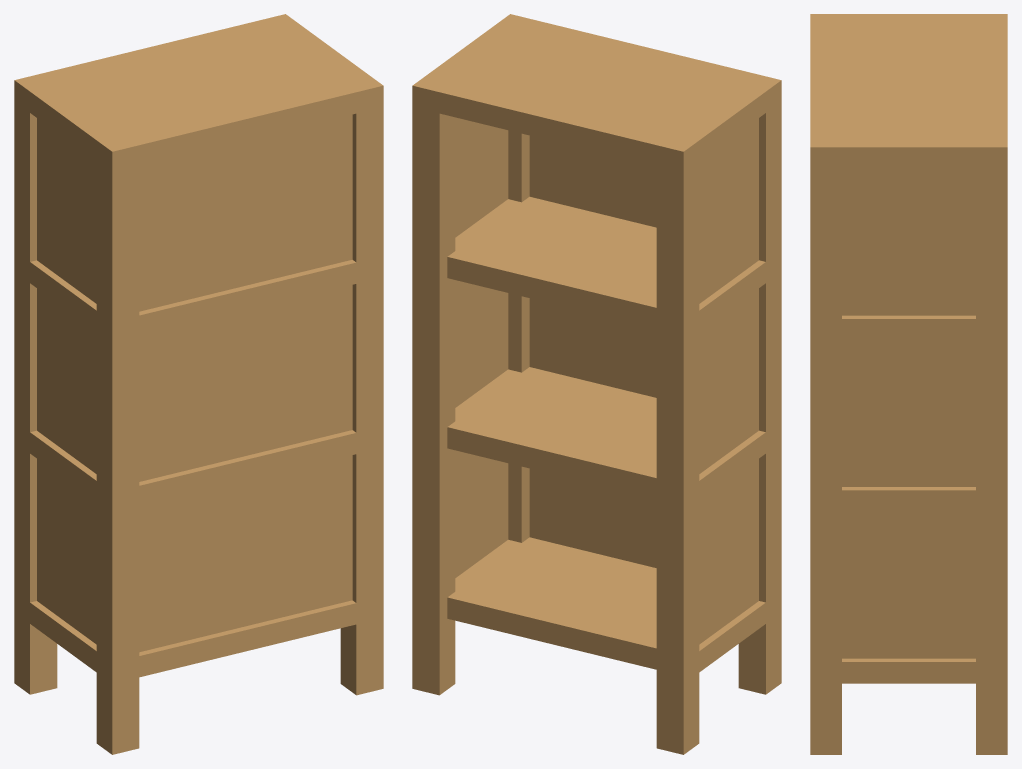
File: bookcaseClosed.glb
3 renders of one model, left to right at view 1: azimuth 30°, elevation 25°; view 2: azimuth 150°, elevation 25°; view 3: azimuth 270°, elevation 25°, orthographic.
Size of the model in its own units: 4 by 8.5 by 2.5.
